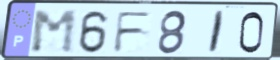0: (238, 10, 266, 55)
6: (75, 9, 111, 55)
8: (156, 9, 188, 56)
F: (112, 10, 155, 54)
I: (206, 9, 227, 55)
M: (30, 9, 79, 55)
